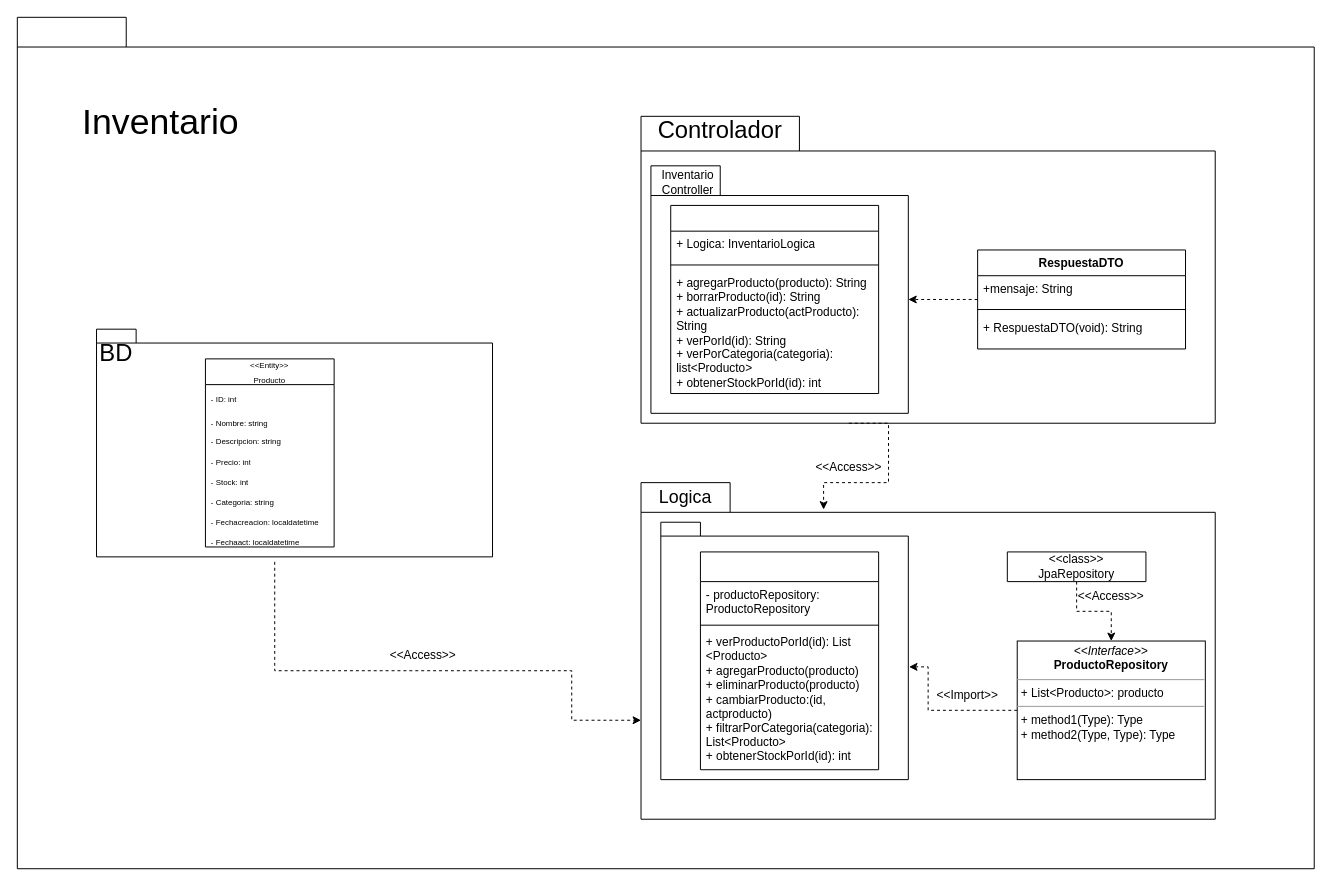
This 1332x886 diagram has some shape labels left out. Here are the shapes that lost their labels. From the top down, the box of each, then its label:
(670, 204, 879, 394): InventarioController
(699, 551, 879, 770): InventarioLogica
